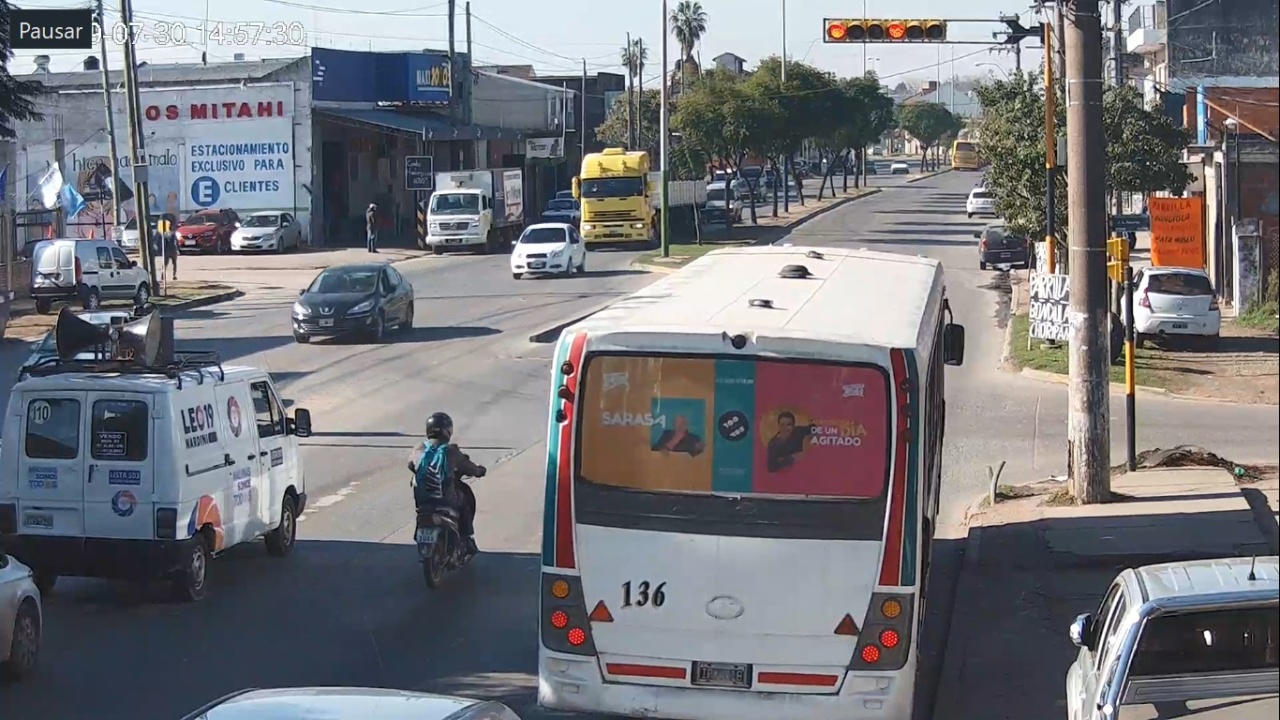bus: (538, 245, 965, 720)
car: (3, 368, 313, 602)
front car: (291, 262, 415, 343)
motorcycle: (407, 445, 487, 587)
traffic light: (827, 17, 946, 42)
